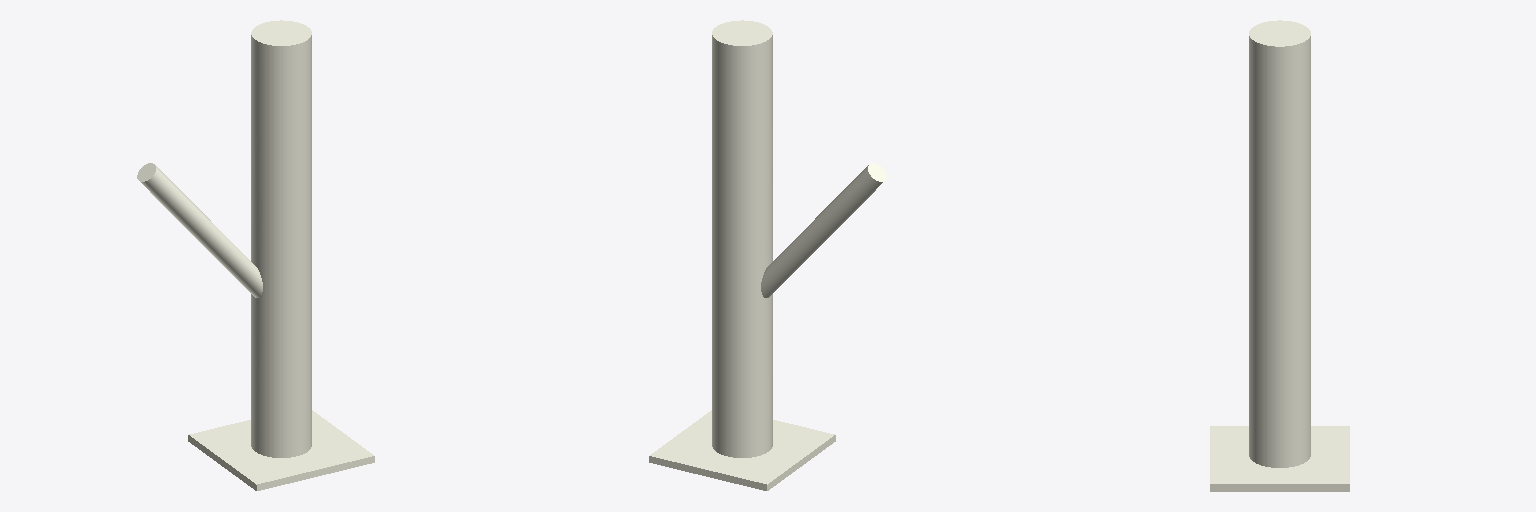
The robot description file, URDF, robot "table.urdf":
<?xml version="0.0" ?>
<robot name="table.urdf">
  <material name="Black">
    <color rgba="0.0 0.0 0.0 1.0"/>
  </material>
  <material name="Blue">
    <color rgba="0.0 0.0 0.8 1.0"/>
  </material>
  <material name="Green">
    <color rgba="0.0 0.8 0.0 1.0"/>
  </material>
  <material name="Grey">
    <color rgba="0.5 0.5 0.5 1.0"/>
  </material>
  <material name="Light_Grey">
    <color rgba="0.8 0.8 0.8 1.0"/>
  </material>
  <material name="Ivory">
    <color rgba="1.0 1.0 0.94 1.0"/>
  </material>
  <material name="Orange">
    <color rgba="1.0 0.423529411765 0.0392156862745 1.0"/>
  </material>
  <material name="Brown">
    <color rgba="0.870588235294 0.811764705882 0.764705882353 1.0"/>
  </material>
  <material name="Red">
    <color rgba="0.8 0.0 0.0 1.0"/>
  </material>
  <material name="White">
    <color rgba="1.0 1.0 1.0 1.0"/>
  </material>
  <link name="baseLink">
    <contact>
      <lateral_friction value="1.0"/>
    </contact>
    <inertial>
      <origin rpy="0 0 0" xyz="0 0 0"/>
       <mass value=".0"/>
       <inertia ixx="1" ixy="0" ixz="0" iyy="1" iyz="0" izz="1"/>
    </inertial>
    <visual>
      <origin rpy="0 0 0" xyz="0 0 0.6"/>
      <geometry>
				<mesh filename="table.obj" scale="1.5 1 0.05"/>
      </geometry>
       <material name="white">
        <color rgba="1 1 1 1"/>
      </material>
    </visual>
    <collision>
      <origin rpy="0 0 0" xyz="0 0 0.6"/>
      <geometry>
	 	<box size="1.5 1 0.05"/>
      </geometry>
    </collision>
	<visual>
      <origin rpy="0 0 0" xyz="-0.65 -0.4 0.29"/>
      <geometry>
	    <mesh filename="table.obj" scale="0.1 0.1 0.58"/>
      </geometry>
	  <material name="framemat0"/>	 
    </visual>
    <visual>
      <origin rpy="0 0 0" xyz="-0.65 0.4 0.29"/>
      <geometry>
        <mesh filename="table.obj" scale="0.1 0.1 0.58"/>
      </geometry>
	  <material name="framemat0"/>
	  </visual>
    <visual>
      <origin rpy="0 0 0" xyz="0.65 -0.4 0.29"/>
      <geometry>
        <mesh filename="table.obj" scale="0.1 0.1 0.58"/>
      </geometry>
	  <material name="framemat0"/>
	  </visual>
    <visual>
      <origin rpy="0 0 0" xyz="0.65 0.4 0.29"/>
      <geometry>
        <mesh filename="table.obj" scale="0.1 0.1 0.58"/>
      </geometry>
    </visual>
  </link>
  <joint name="table2rack" type="fixed">
    <parent link="baseLink"/>
    <child link="rack"/>
    <origin rpy="0 0 3.1415" xyz="0.3 -0.1 0.635"/> 
  </joint>
  <link concave="yes" name="rack">
    <visual>
      <origin rpy="0 0 0" xyz="0 0 0"/>
      <geometry>
        <mesh filename="simple_rack.obj" scale="1.0 1.0 1.0"/>
      </geometry>
      <material name="Ivory"/>
    </visual>
    <collision>
      <origin rpy="0 0 0" xyz="0 0 0"/>
      <geometry>
        <mesh filename="simple_rack.obj" scale="1.0 1.0 1.0"/>
      </geometry>
    </collision>
    <contact>
      <lateral_friction value="0.2"/>
    </contact>
  </link>
</robot>

--- Render facts (derived) ---
The picture shows the robot from 3 angles, left to right: view 1: azimuth 30°, elevation 25°; view 2: azimuth 150°, elevation 25°; view 3: azimuth 270°, elevation 25°; orthographic projection.
Model table.urdf with 2 links and 1 joints (1 fixed), rooted at baseLink, posed every joint at zero.
Visible links, largest first — view 1: rack; view 2: rack; view 3: rack.
Boxes of the visible links, x1,y1,x2,y2 form: rack: [137, 20, 374, 490]; rack: [649, 20, 886, 490]; rack: [1210, 20, 1349, 491].
Bounding box of the posed robot: 0.1951 × 0.1143 × 0.3874 m (x, y, z).
Meshes: 2 distinct files referenced, 1 mesh visuals loaded (1 OBJ); not drawn: 5 (reference not matched to a file when rendering).